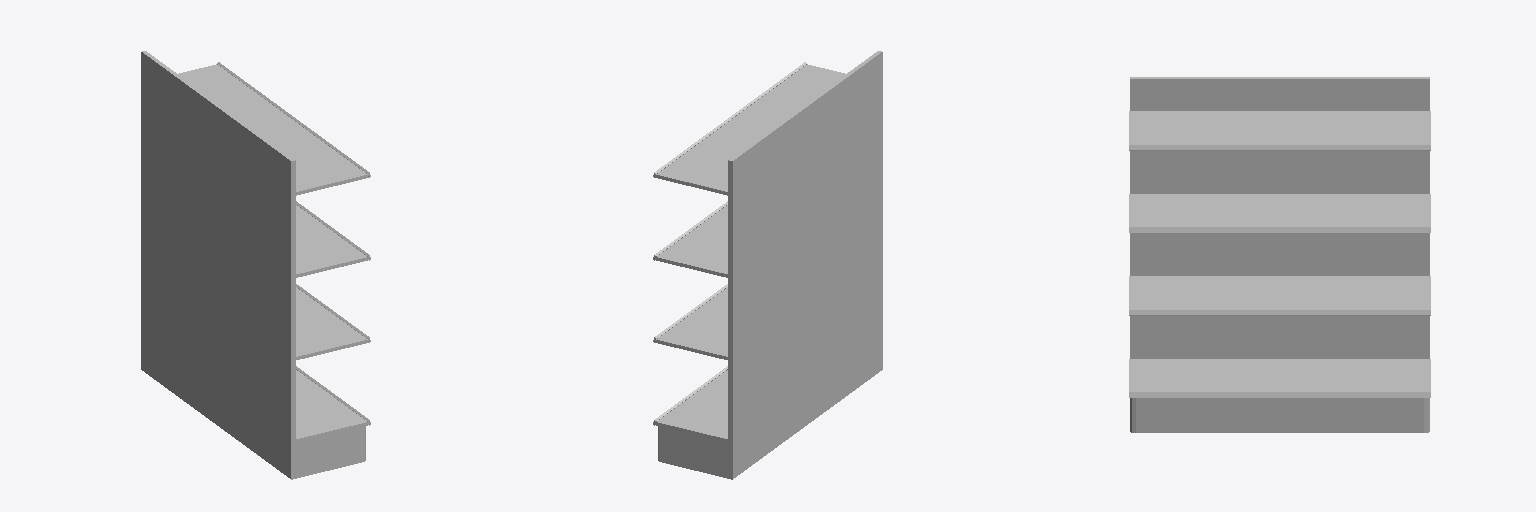
The model's file is Shelf_mid_4.obj.
3 renders of one model, left to right at view 1: azimuth 30°, elevation 25°; view 2: azimuth 150°, elevation 25°; view 3: azimuth 270°, elevation 25°, orthographic.
Parts seen in each view (by area): view 1: Shelf_mid_4_Cube.009; view 2: Shelf_mid_4_Cube.009; view 3: Shelf_mid_4_Cube.009.
Boxes of the visible parts, box(x1,y1,x2,y2) form: Shelf_mid_4_Cube.009: box(141, 51, 370, 479); Shelf_mid_4_Cube.009: box(653, 51, 882, 479); Shelf_mid_4_Cube.009: box(1129, 77, 1430, 432).
Size of the model in its own units: 1.04 by 4 by 3.44.